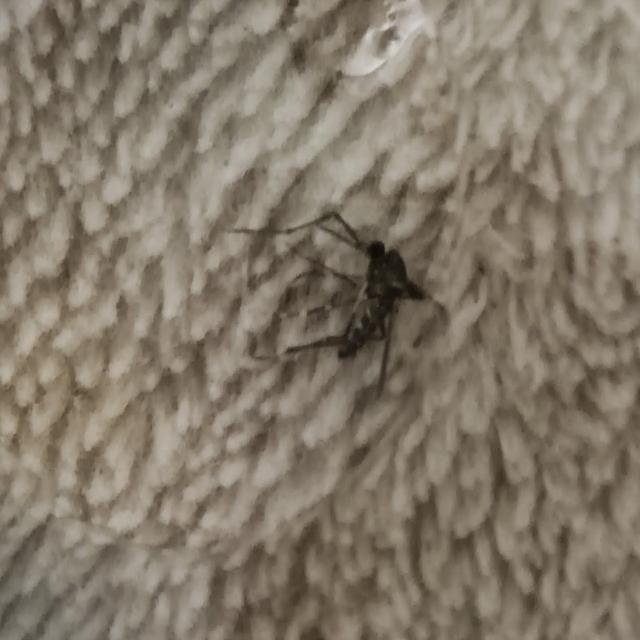albopictus: (241, 177, 455, 409)
